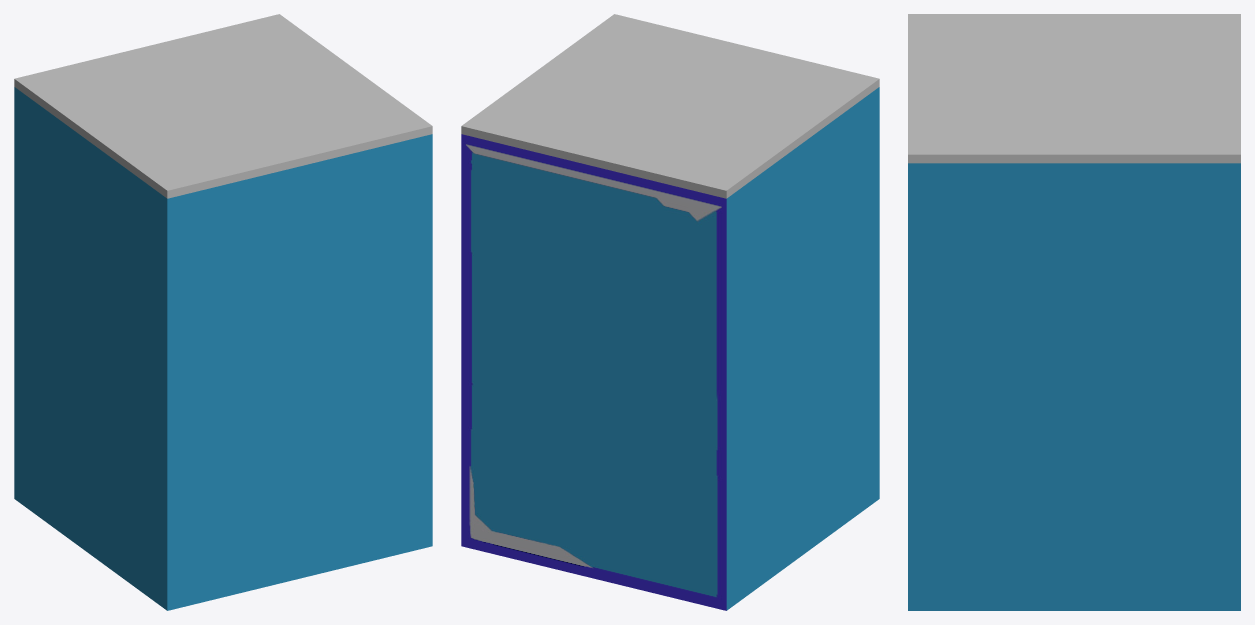
The model's file is podium_blue1.fbx.
3 views of the same model, side by side, from view 1: azimuth 30°, elevation 25°; view 2: azimuth 150°, elevation 25°; view 3: azimuth 270°, elevation 25° (orthographic). The views are drawn at different scales.
Parts seen in each view (by area): view 1: Cube.002; view 2: Cube.002; view 3: Cube.002.
Boxes of the visible parts, bbox=[...] form: Cube.002: bbox=[14, 14, 432, 610]; Cube.002: bbox=[461, 14, 879, 610]; Cube.002: bbox=[908, 14, 1240, 610].
Size of the model in its own units: 2 by 3.03 by 2.
